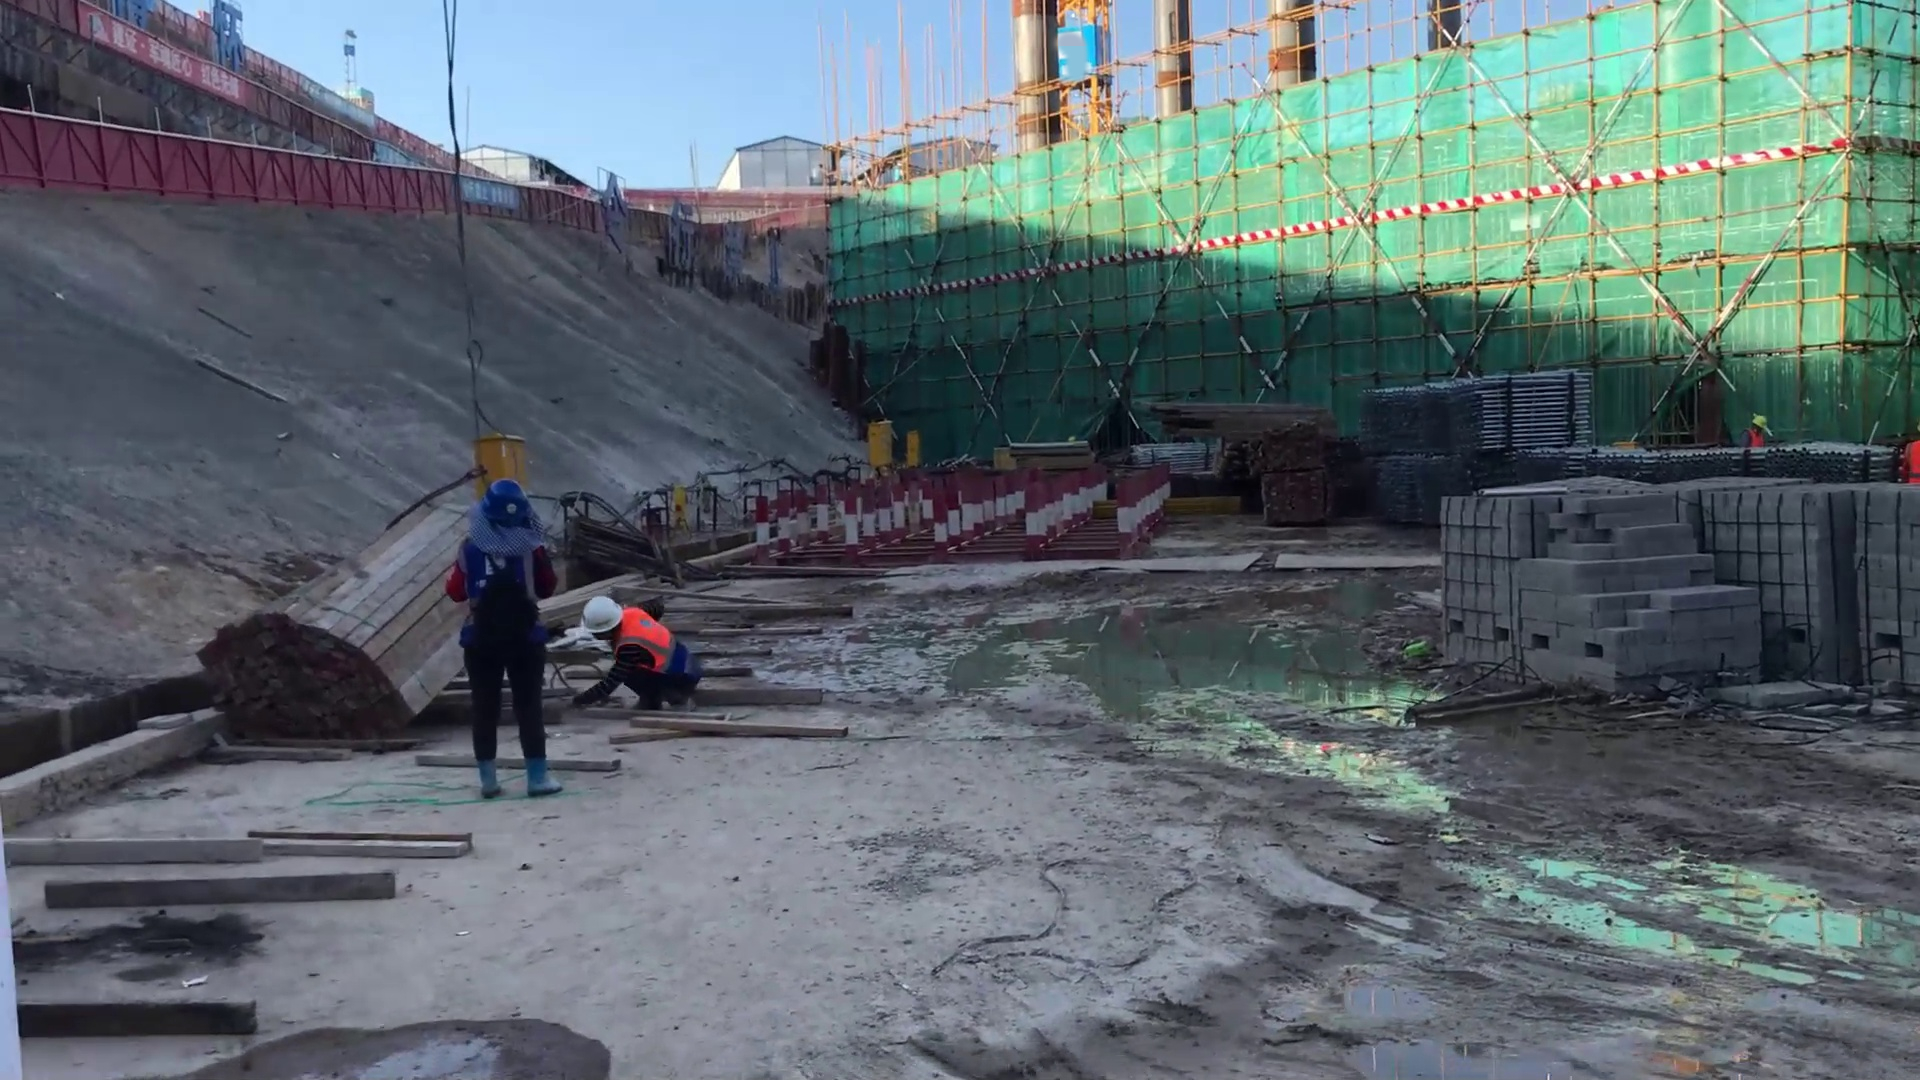brick: (1440, 487, 1920, 707)
ebox: (860, 419, 894, 472), (903, 432, 919, 474)
fence: (3, 109, 337, 229), (333, 153, 559, 220)
helmet: (476, 481, 549, 553), (572, 592, 623, 635), (1750, 414, 1767, 430)
person: (449, 480, 560, 801), (573, 589, 704, 712), (1742, 413, 1771, 450)
scaffold: (1367, 371, 1596, 445), (1375, 445, 1451, 517)
vest: (619, 608, 685, 683)
wood: (201, 500, 445, 741), (1147, 392, 1319, 452)
